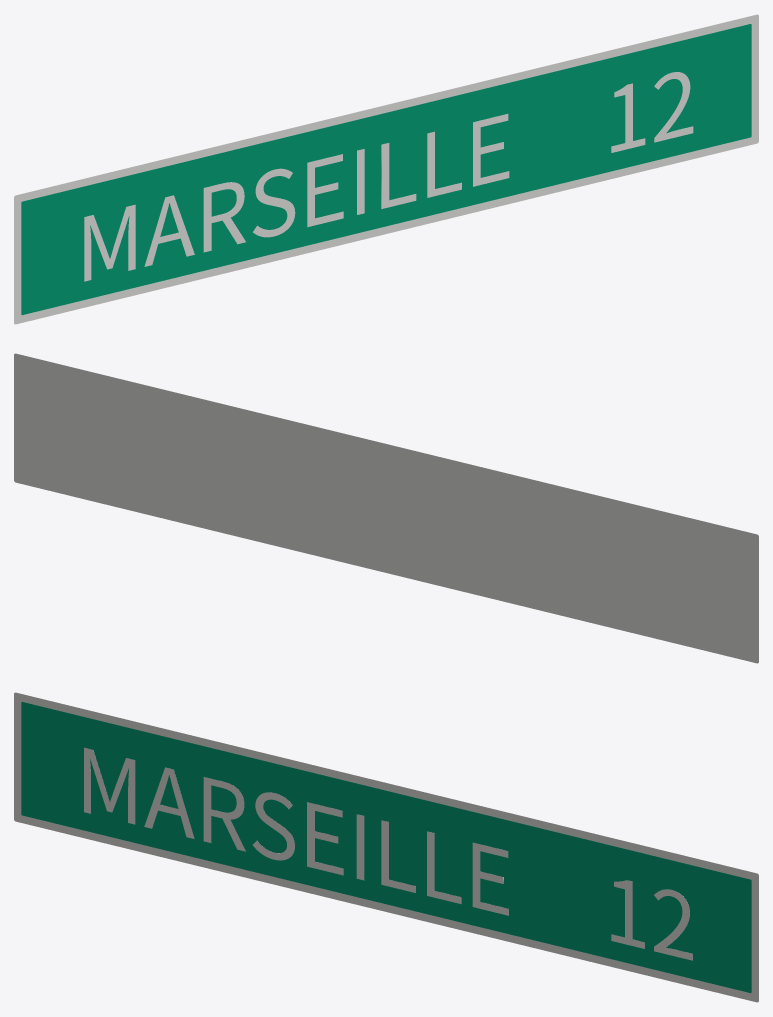
3 views of the same model, one above another, from view 1: azimuth 30°, elevation 25°; view 2: azimuth 150°, elevation 25°; view 3: azimuth 330°, elevation 25° (orthographic).
Parts seen in each view (by area): view 1: D63c_reg01, D63c_lis00, D63c_txt02, D63c_txt03; view 2: D63c_lis00; view 3: D63c_reg01, D63c_lis00, D63c_txt02, D63c_txt03.
Boxes of the visible parts, x1,y1,x2,y2 form: D63c_reg01: (21,24,751,315); D63c_lis00: (14,14,758,324); D63c_txt02: (84,114,509,281); D63c_txt03: (611,72,693,152); D63c_lis00: (14,353,758,663); D63c_reg01: (21,702,751,993); D63c_lis00: (14,692,758,1002); D63c_txt02: (84,747,508,915); D63c_txt03: (611,880,692,960).
Bounding box in the file's own units: 3.87 × 0.64 × 0.0016.
